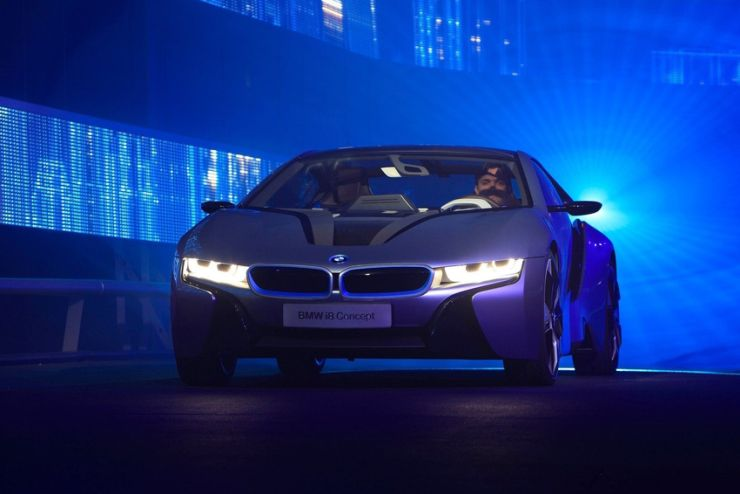headlight: (179, 254, 525, 293)
